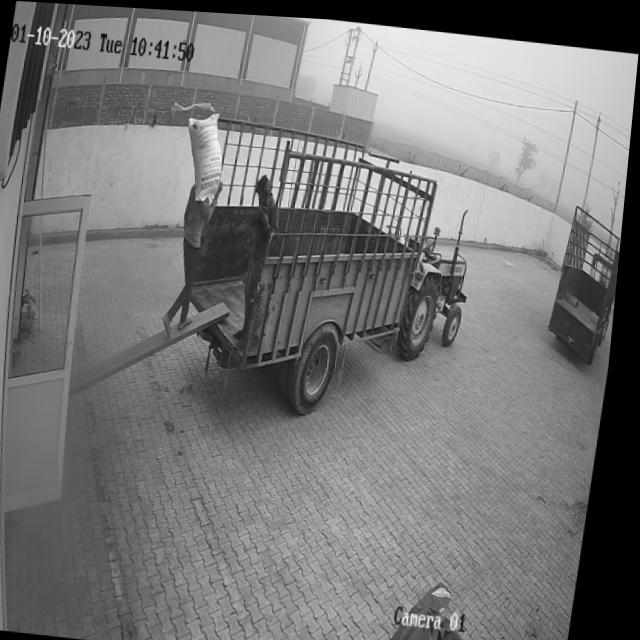sack: (180, 107, 233, 199)
